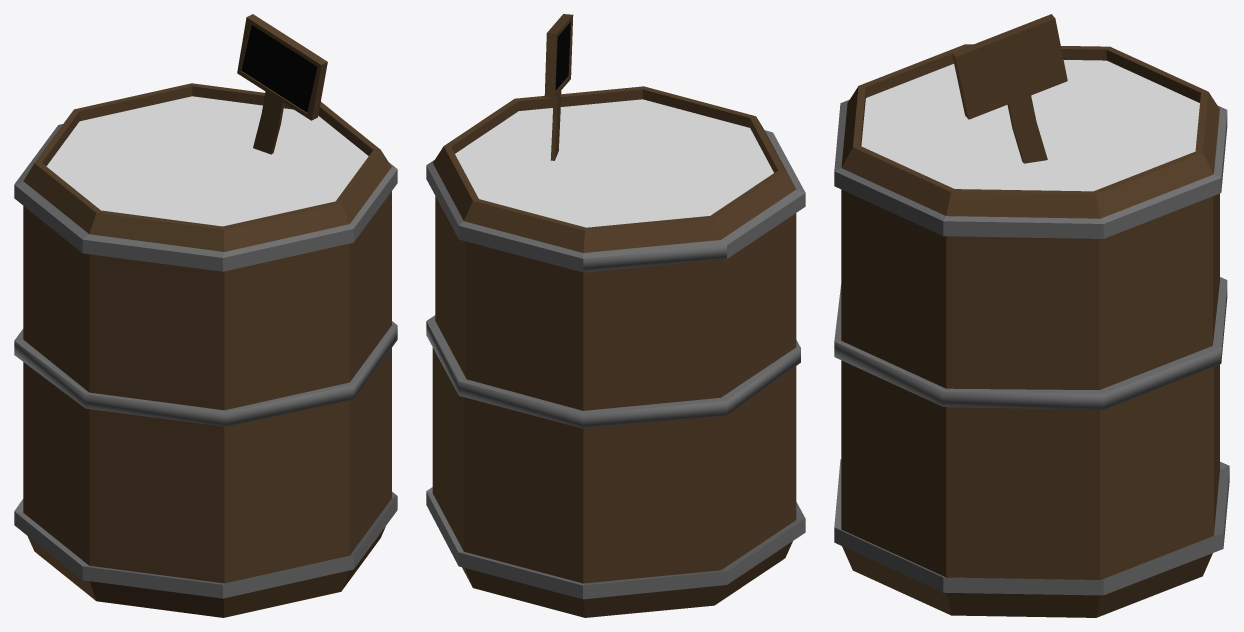
The model's file is _arrelV1.fbx.
3 renders of one model, left to right at view 1: azimuth 30°, elevation 25°; view 2: azimuth 150°, elevation 25°; view 3: azimuth 270°, elevation 25°, orthographic. The views are drawn at different scales.
Visible parts, largest first — view 1: Cylinder.006; view 2: Cylinder.006; view 3: Cylinder.006.
Boxes of the visible parts, x1=… form: Cylinder.006: x1=14, y1=14, x2=397, y2=617; Cylinder.006: x1=426, y1=14, x2=805, y2=617; Cylinder.006: x1=834, y1=14, x2=1229, y2=617.
Bounding box in the file's own units: 208 × 209 × 323.
